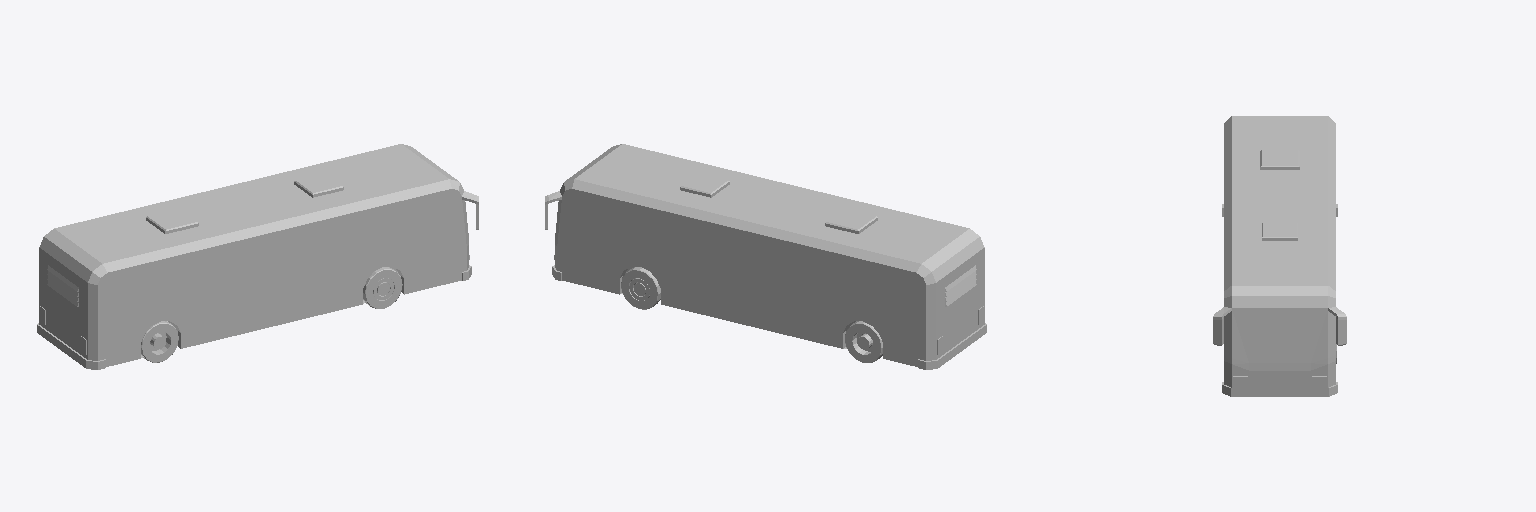
The model's file is bus.obj.
3 renders of one model, left to right at view 1: azimuth 30°, elevation 25°; view 2: azimuth 150°, elevation 25°; view 3: azimuth 270°, elevation 25°, orthographic.
Bounding box in the file's own units: 8.06 × 2.27 × 2.42.